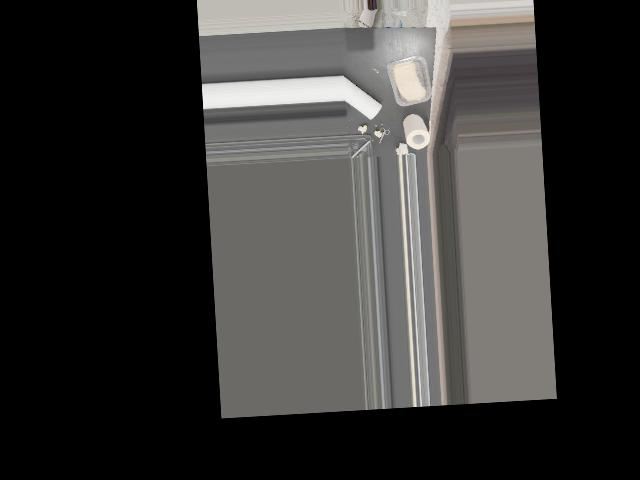cheese: (387, 54, 429, 107)
